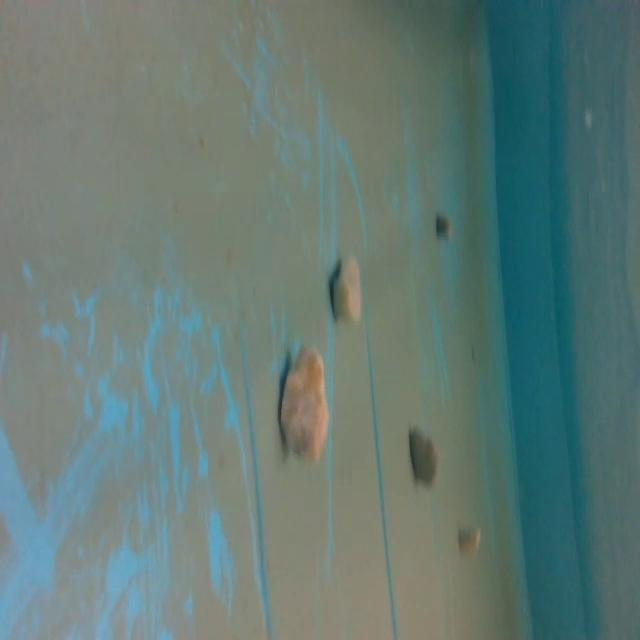rock: (279, 342, 333, 470), (328, 252, 366, 326), (406, 419, 442, 494), (456, 520, 485, 561), (432, 204, 457, 244)
